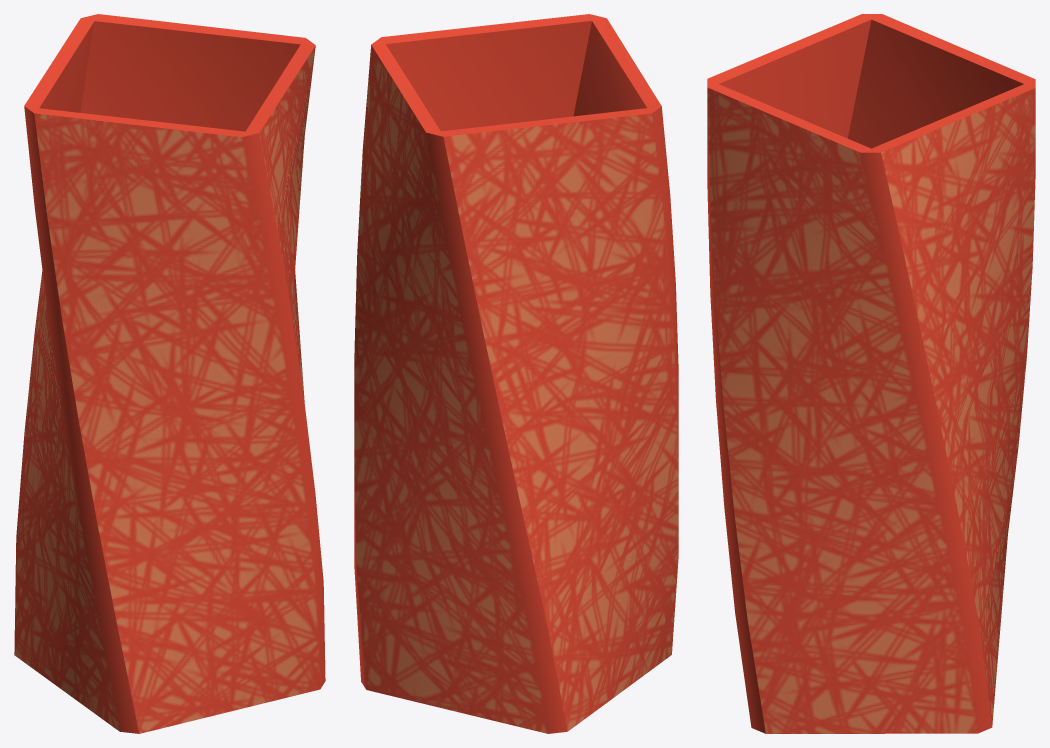
The model's file is VaseD.FBX.
The picture shows the model from 3 angles, left to right: view 1: azimuth 30°, elevation 25°; view 2: azimuth 150°, elevation 25°; view 3: azimuth 270°, elevation 25°; orthographic projection.
Parts seen in each view (by area): view 1: VaseD_LOD0; view 2: VaseD_LOD0; view 3: VaseD_LOD0.
Boxes of the visible parts, left/top/right/bottom form: VaseD_LOD0: left=14, top=14, right=325, bottom=733; VaseD_LOD0: left=354, top=14, right=678, bottom=733; VaseD_LOD0: left=707, top=14, right=1035, bottom=733.
Size of what is drawn, in the model's own units: 15.2 by 30.62 by 15.2.
